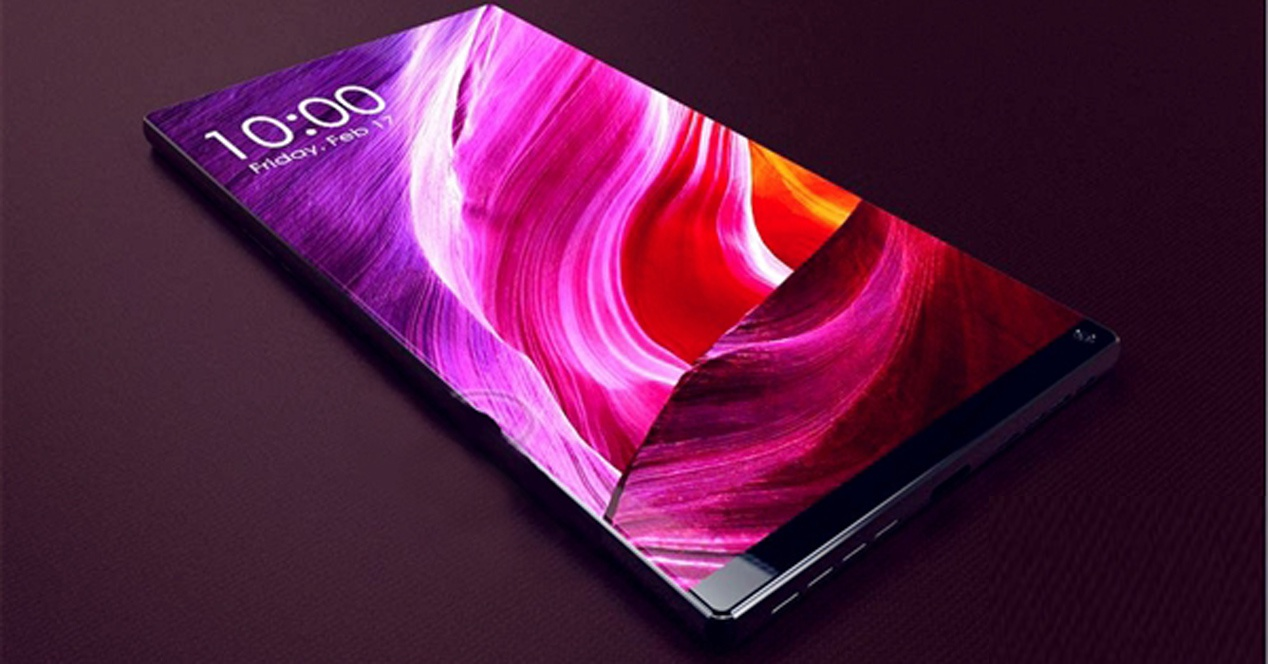smartphone: (143, 4, 1122, 644)
